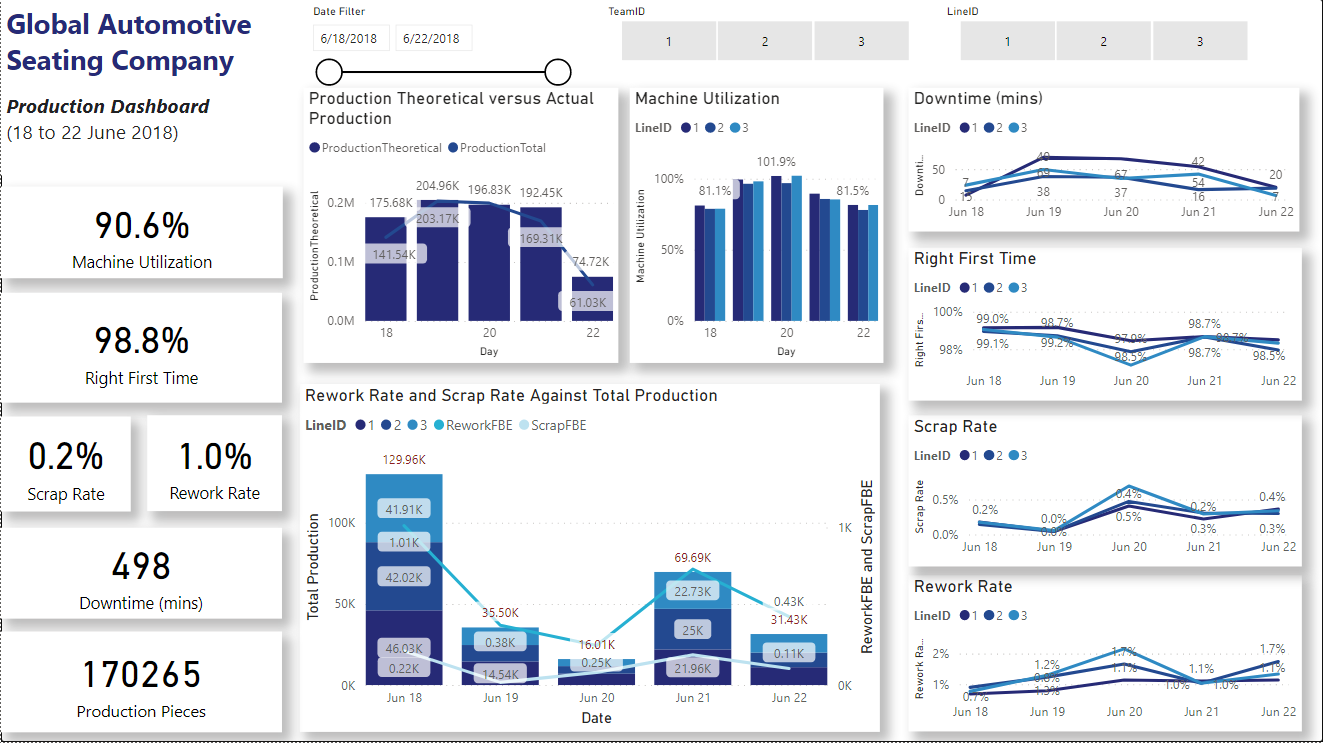

The dashboard page shown, as its layout file describes it:
{"tool":"powerbi","page":{"name":"Final Dashboard","canvas":[1280,720],"ordinal":0},"visuals":[{"type":"textbox","box":[0,0,332.8,100.4],"z":0},{"type":"slicer","fields":{"Values":["Date.Date"]},"box":[289.2,0,271.1,100.4],"z":1000},{"type":"lineChart","title":"Rework Rate","fields":{"Y":["DBRightFirstTime.ReworkRate"],"Category":["DBRightFirstTime.Date"],"Series":["DBRightFirstTime.LineID"]},"box":[878.8,558.5,381.2,151.3],"z":2000},{"type":"lineChart","title":"Scrap Rate","fields":{"Category":["DBRightFirstTime.Date"],"Y":["DBRightFirstTime.ScrapRateKPI"],"Series":["DBRightFirstTime.LineID"]},"box":[878.5,403,381.2,146.4],"z":3000},{"type":"lineChart","title":"Right First Time","fields":{"Category":["DBRightFirstTime.Date"],"Y":["DBRightFirstTime.RightFirstTimeKPI"],"Series":["DBRightFirstTime.LineID"]},"box":[878.5,240.8,381.2,147.6],"z":4000},{"type":"lineStackedColumnComboChart","title":"Rework Rate and Scrap Rate Against Total Production","fields":{"Category":["DBRightFirstTime.Date"],"Y":["DBRightFirstTime.ProductionFBETotal2"],"Y2":["DBRightFirstTime.ReworkFBETotal","DBRightFirstTime.ScrapFBETotal2"],"Series":["DBRightFirstTime.LineID"]},"box":[289.3,373.3,561.5,336.4],"z":5000},{"type":"card","fields":{"Values":["DBMachineUtilization1.MachineUtilization"]},"box":[0,181,272.8,89.2],"z":6000},{"type":"card","fields":{"Values":["DBRightFirstTime.RightFirstTimeKPI"]},"box":[0,284.6,272.3,106.5],"z":7000},{"type":"card","fields":{"Values":["DBRightFirstTime.ScrapRateKPI"]},"box":[0,404.2,125.8,92],"z":8000},{"type":"card","fields":{"Values":["DBRightFirstTime.ReworkRate"]},"box":[141.6,403,130.7,93.2],"z":9000},{"type":"card","fields":{"Values":["DBDowntime.ValueTotal (secs)"]},"box":[0,512,271.7,88],"z":10000},{"type":"card","fields":{"Values":["DBProduction.Production Pieces"]},"box":[0,612.5,271.7,97.4],"z":11000},{"type":"slicer","fields":{"Values":["LineID.LineID"]},"box":[902.7,0,327.9,66.6],"z":12000},{"type":"slicer","fields":{"Values":["TeamID.TeamID"]},"box":[574.8,0,327.9,66.6],"z":13000},{"type":"textbox","box":[0,85.9,272.3,84.7],"z":14000},{"type":"lineClusteredColumnComboChart","title":"Production Theoretical versus Actual Production","fields":{"Category":["DBMachineUtilization1.Date.Variation.Date Hierarchy.Day"],"Y":["DBMachineUtilization1.ProductionFBETheoriticalTotal"],"Y2":["DBMachineUtilization1.ProductionFBETotal"]},"box":[292.6,85.9,304.9,266.2],"z":15000},{"type":"lineClusteredColumnComboChart","title":"Machine Utilization","fields":{"Y":["DBMachineUtilization1.MachineUtilization"],"Category":["DBMachineUtilization1.Date.Variation.Date Hierarchy.Day"],"Series":["DBMachineUtilization1.LineID"]},"box":[608.7,85.9,458.6,266.2],"z":16000},{"type":"lineChart","title":"Downtime (mins)","fields":{"Category":["DBDowntime.Date"],"Y":["DBDowntime.ValueTotal (secs)"],"Series":["DBDowntime.LineID"]},"box":[878.5,85.9,378.8,139.2],"z":17000}]}

Visuals, with their boxes in screenshot pixels (x1, y1, x2, y2), scaled from the page's 1280x720 canvas onto the 1323x743 screenshot:
textbox: l=0, t=0, r=344, b=104
slicer - Date.Date: l=299, t=0, r=579, b=104
"Rework Rate" lineChart: l=908, t=576, r=1302, b=732
"Scrap Rate" lineChart: l=908, t=416, r=1302, b=567
"Right First Time" lineChart: l=908, t=248, r=1302, b=401
"Rework Rate and Scrap Rate Against Total Production" lineStackedColumnComboChart: l=299, t=385, r=879, b=732
card - DBMachineUtilization1.MachineUtilization: l=0, t=187, r=282, b=279
card - DBRightFirstTime.RightFirstTimeKPI: l=0, t=294, r=281, b=404
card - DBRightFirstTime.ScrapRateKPI: l=0, t=417, r=130, b=512
card - DBRightFirstTime.ReworkRate: l=146, t=416, r=281, b=512
card - DBDowntime.ValueTotal (secs): l=0, t=528, r=281, b=619
card - DBProduction.Production Pieces: l=0, t=632, r=281, b=733
slicer - LineID.LineID: l=933, t=0, r=1272, b=69
slicer - TeamID.TeamID: l=594, t=0, r=933, b=69
textbox: l=0, t=89, r=281, b=176
"Production Theoretical versus Actual Production" lineClusteredColumnComboChart: l=302, t=89, r=618, b=363
"Machine Utilization" lineClusteredColumnComboChart: l=629, t=89, r=1103, b=363
"Downtime (mins)" lineChart: l=908, t=89, r=1300, b=232
